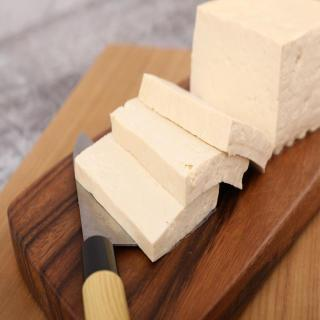Tahu: (67, 1, 320, 265)
